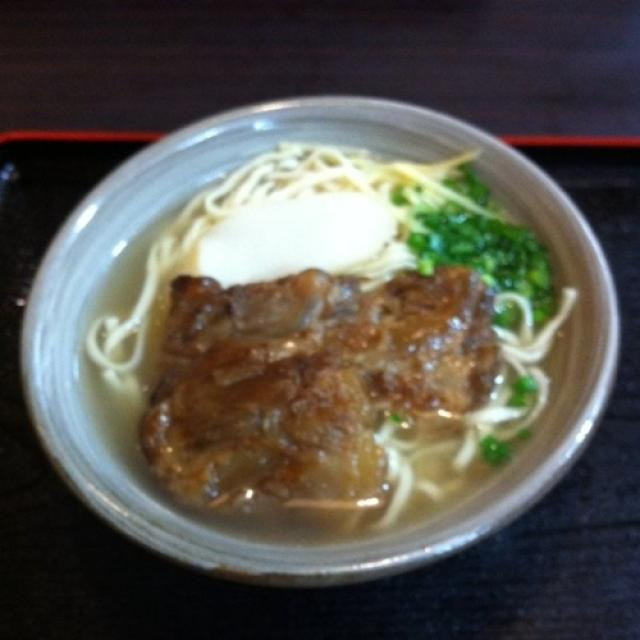面条主食: (140, 30, 640, 565)
